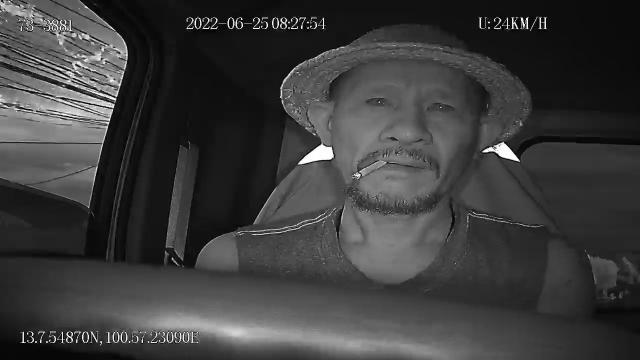SafeDriving: (420, 92, 460, 121), (359, 85, 399, 113)
Smoking: (352, 158, 388, 182)
